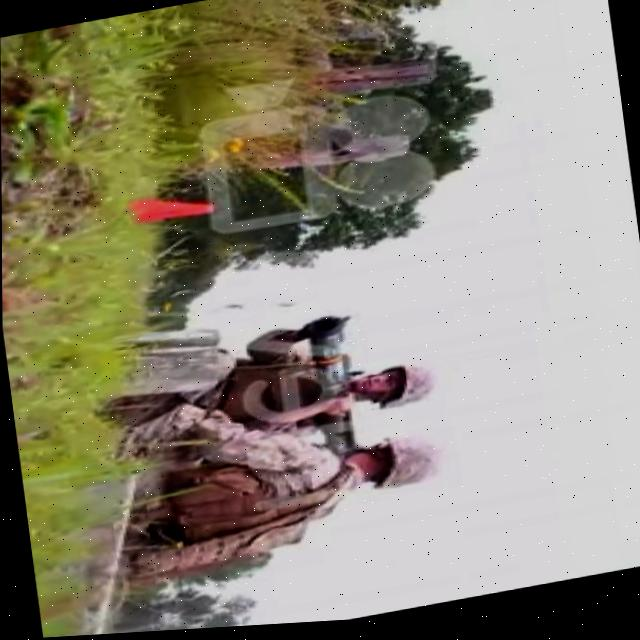rocket: (293, 315, 363, 450)
